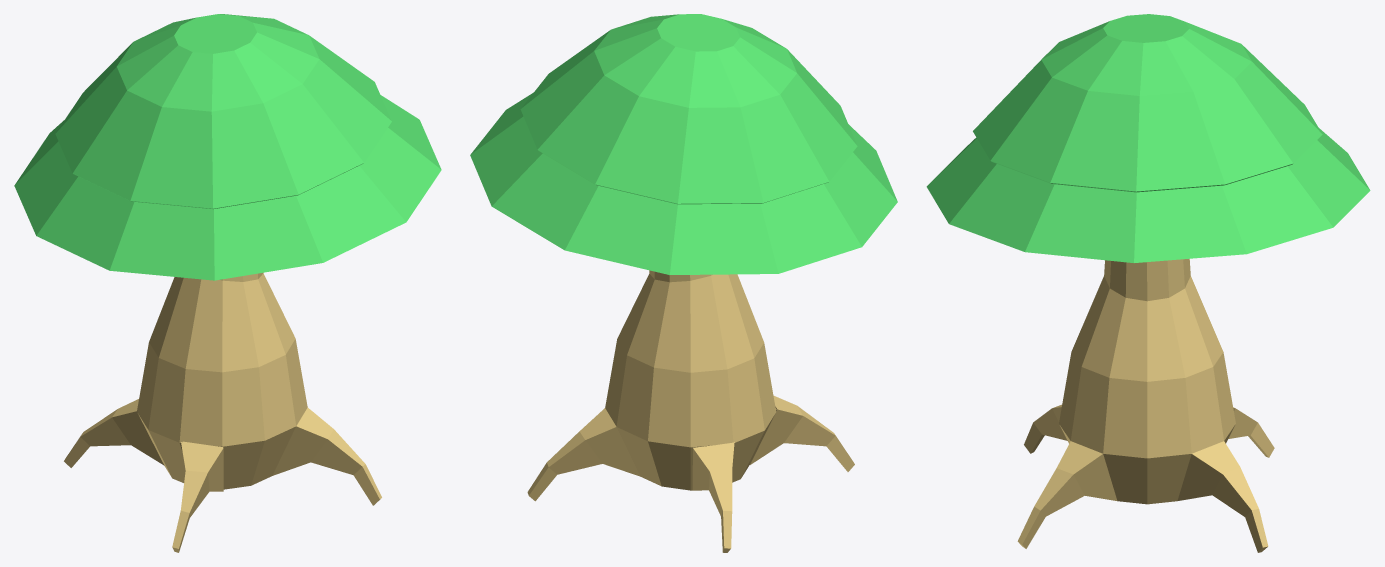
File: bush 4.fbx
The picture shows the model from 3 angles, left to right: view 1: azimuth 30°, elevation 25°; view 2: azimuth 150°, elevation 25°; view 3: azimuth 270°, elevation 25°; orthographic projection. The views are drawn at different scales.
Visible parts, largest first — view 1: Circle.002; view 2: Circle.002; view 3: Circle.002.
Part boxes in pixels (box(x1,y1,x2,y2)): Circle.002: box(14, 14, 441, 552); Circle.002: box(470, 14, 897, 552); Circle.002: box(926, 14, 1370, 552).
Size of the model in its own units: 145 by 172 by 146.
